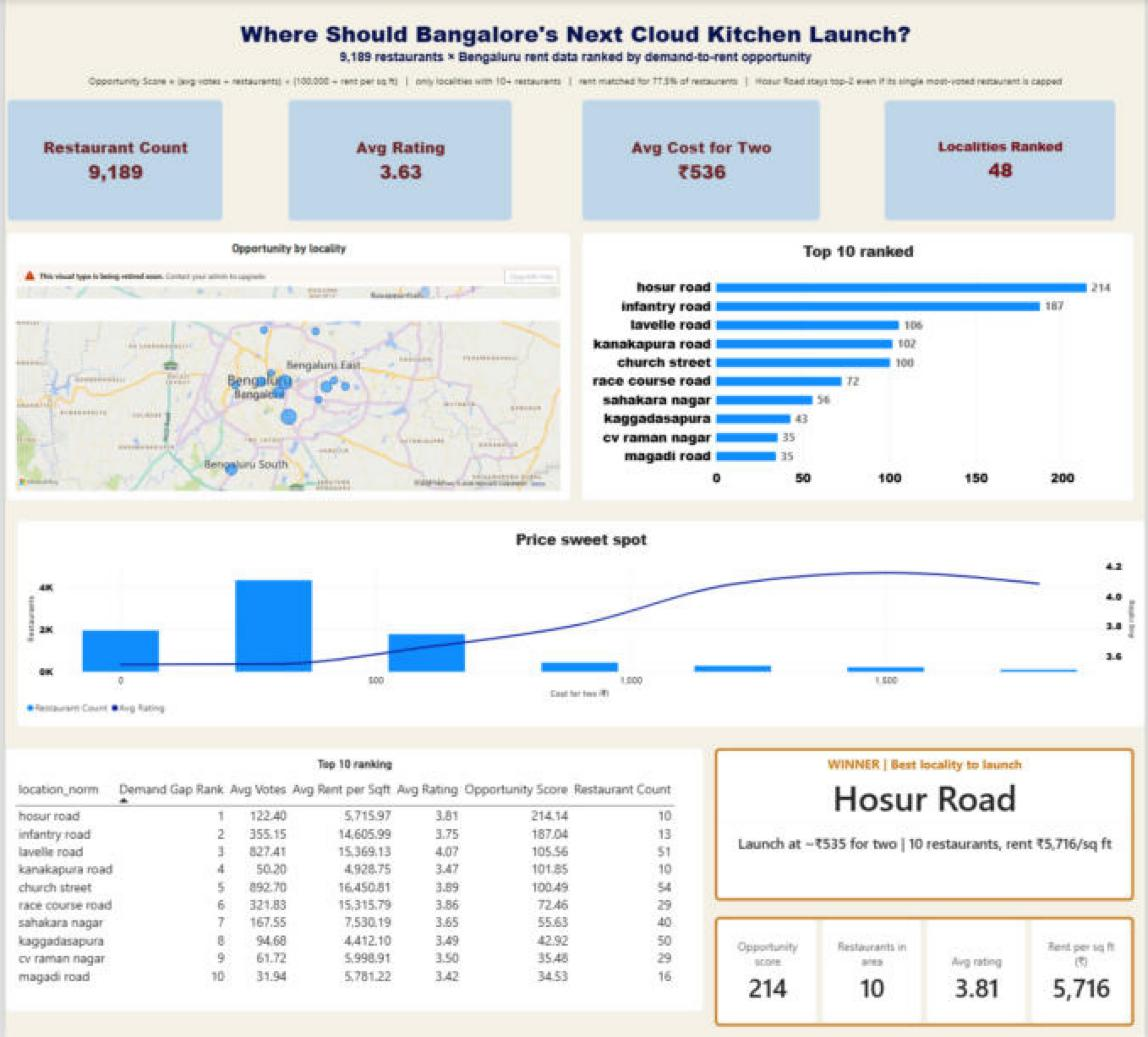

This screenshot's page, from the dashboard's own definition file:
{"tool":"powerbi","page":{"name":"Page 1","canvas":[1920,1750],"ordinal":0},"visuals":[{"type":"cardVisual","fields":{"Data":["locality_clean.Restaurants Label"]},"box":[2.7,167.6,365,205.5],"z":0},{"type":"cardVisual","fields":{"Data":["restaurants_clean.Avg Rating"]},"box":[475.8,167.6,378.5,205.5],"z":1000},{"type":"cardVisual","fields":{"Data":["locality_clean.Avg Cost Label"]},"box":[970.6,167.6,402.8,205.5],"z":2000},{"type":"cardVisual","fields":{"Data":["restaurants_clean.Localities Ranked"]},"box":[1478.9,167.6,392,205.5],"z":3000},{"type":"textbox","title":"Where Should Bangalore''s Next Cloud Kitchen Launch? ","box":[0,28.9,1920.8,132.9],"z":4000},{"type":"map","title":"Opportunity by locality","fields":{"Category":["locality_clean.Location Full"],"Size":["restaurants_clean.Opportunity Score"]},"box":[2.7,392,949,451.5],"z":5000},{"type":"clusteredBarChart","title":"Top 10 ranked","fields":{"Category":["locality_clean.location_norm"],"Y":["restaurants_clean.Opportunity Score"]},"box":[970.6,392,930,451.5],"z":6000},{"type":"lineClusteredColumnComboChart","title":"Price sweet spot","fields":{"Category":["restaurants_clean.cost_for_two (bins)"],"Y":["restaurants_clean.Restaurant Count"],"Y2":["restaurants_clean.Avg Rating"]},"box":[18.9,876,1900.6,348.8],"z":7000},{"type":"tableEx","title":"Top 10 ranking","fields":{"Values":["locality_clean.location_norm","restaurants_clean.Demand Gap Rank","restaurants_clean.Avg Votes","restaurants_clean.Avg Rent per Sqft","restaurants_clean.Avg Rating","restaurants_clean.Opportunity Score","restaurants_clean.Restaurant Count"]},"box":[0,1259.9,1176.1,443.4],"z":8000},{"type":"cardVisual","fields":{"Data":["locality_clean.Top Locality"]},"box":[1195,1259.9,705.6,256.8],"z":9000},{"type":"cardVisual","fields":{"Data":["locality_clean.Top Score","locality_clean.Winner Restaurants","locality_clean.Winner Rating","locality_clean.Winner Rent"]},"box":[1195,1543.8,705.6,183.8],"z":10000},{"type":"shape","box":[3,503,942,38],"z":10001}]}

Visuals, with their boxes in screenshot pixels (x1, y1, x2, y2), scaled from the page's 1920x1750 canvas onto the 1148x1037 screenshot:
cardVisual - locality_clean.Restaurants Label: crop(2, 99, 220, 221)
cardVisual - restaurants_clean.Avg Rating: crop(284, 99, 511, 221)
cardVisual - locality_clean.Avg Cost Label: crop(580, 99, 821, 221)
cardVisual - restaurants_clean.Localities Ranked: crop(884, 99, 1119, 221)
"Where Should Bangalore''s Next Cloud Kitchen Launch? " textbox: crop(0, 17, 1147, 96)
"Opportunity by locality" map: crop(2, 232, 569, 500)
"Top 10 ranked" clusteredBarChart: crop(580, 232, 1136, 500)
"Price sweet spot" lineClusteredColumnComboChart: crop(11, 519, 1147, 726)
"Top 10 ranking" tableEx: crop(0, 747, 703, 1009)
cardVisual - locality_clean.Top Locality: crop(715, 747, 1136, 899)
cardVisual - locality_clean.Top Score x locality_clean.Winner Restaurants: crop(715, 915, 1136, 1024)
shape: crop(2, 298, 565, 321)
